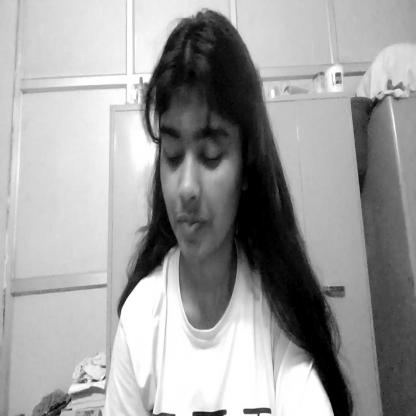Distracted: (146, 7, 254, 274)
